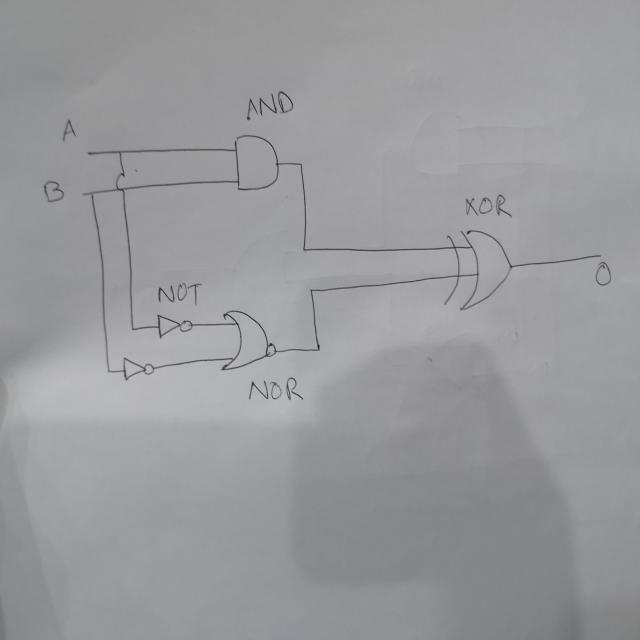crossover: (114, 170, 127, 196)
junction: (312, 341, 323, 357), (296, 157, 306, 172), (299, 244, 309, 255), (307, 284, 316, 295), (115, 146, 124, 155), (129, 324, 136, 334), (89, 189, 96, 199), (106, 366, 112, 376)
terminal: (84, 146, 94, 158), (595, 251, 603, 261), (79, 189, 87, 198)
text: (243, 87, 296, 123), (248, 375, 304, 406), (462, 192, 513, 218), (157, 280, 203, 308), (42, 178, 66, 203), (594, 261, 612, 288), (60, 117, 76, 141)
